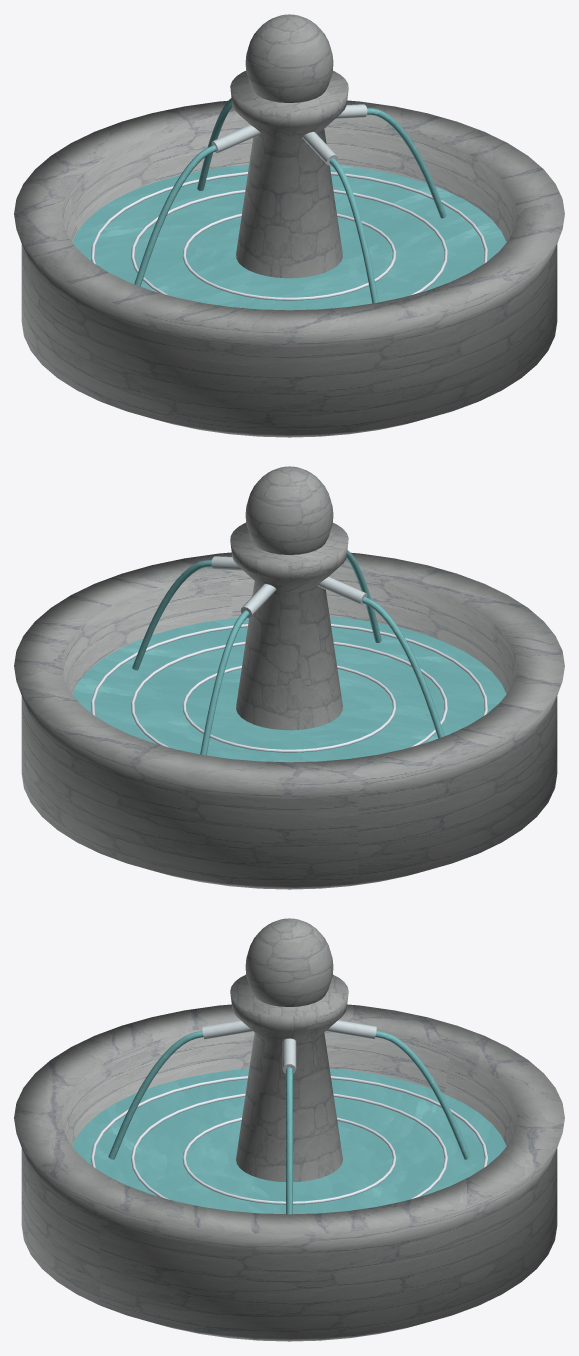
File: fountain.glb
3 views of the same model, one above another, from view 1: azimuth 30°, elevation 25°; view 2: azimuth 150°, elevation 25°; view 3: azimuth 270°, elevation 25° (orthographic).
Visible parts, largest first — view 1: fountain; view 2: fountain; view 3: fountain.
Part boxes in pixels (left/top/right/bottom): fountain: left=14, top=14, right=564, bottom=437; fountain: left=14, top=466, right=564, bottom=889; fountain: left=14, top=918, right=564, bottom=1341.
Bounding box in the file's own units: 2.88 × 1.85 × 2.88.
Materials: 3 (3 with a texture image).
